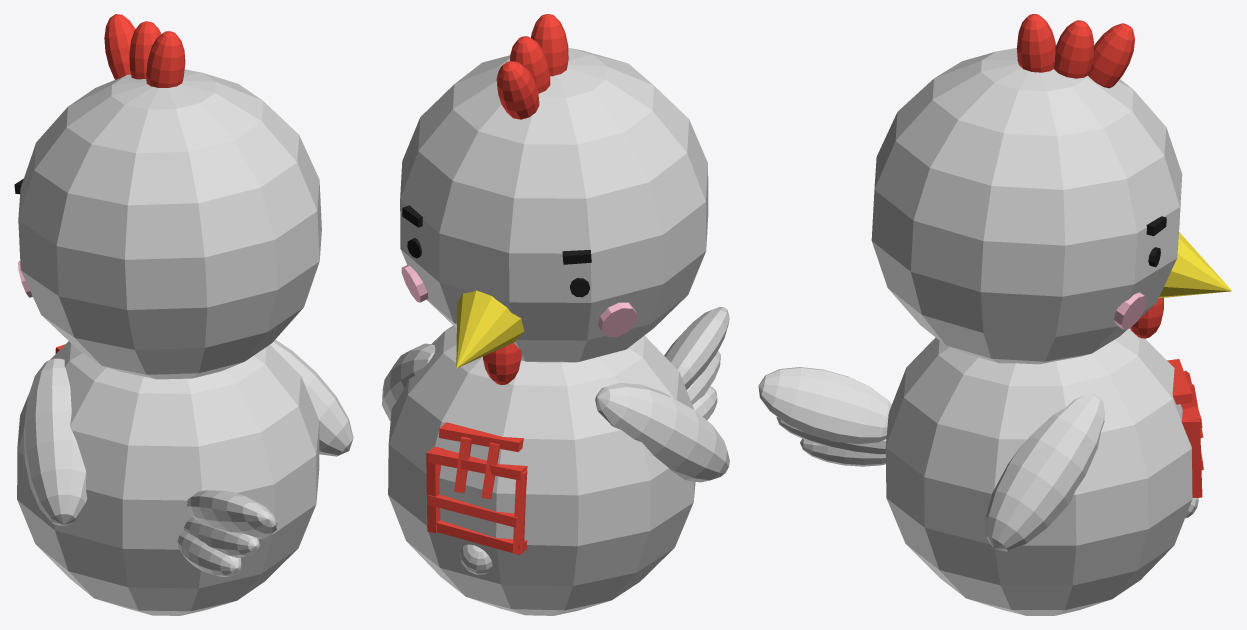
Rendered from chicken.fbx.
3 views of the same model, side by side, from view 1: azimuth 30°, elevation 25°; view 2: azimuth 150°, elevation 25°; view 3: azimuth 270°, elevation 25° (orthographic). The views are drawn at different scales.
Visible parts, largest first — view 1: mesh_2011721713, mesh_636205499, mesh_687468873, mesh_1213640361, mesh_681080062, mesh_2015816963, mesh_658709603, mesh_785766291, mesh_866905359, mesh_2118825051; view 2: mesh_2011721713, mesh_636205499, mesh_687468873, mesh_330036565, mesh_1213640361, mesh_866905359, mesh_681080062, mesh_2015816963, mesh_2118825051, group_427946480, group_847781203, mesh_1086870798 (+11 smaller); view 3: mesh_2011721713, mesh_636205499, mesh_681080062, mesh_1213640361, mesh_330036565, mesh_866905359, mesh_2015816963, mesh_2118825051, mesh_658709603, mesh_785766291, group_1947679134, group_1803137361 (+2 smaller).
Boxes of the visible parts, x1=… form: mesh_2011721713: x1=18, y1=69, x2=321, y2=379; mesh_636205499: x1=17, y1=341, x2=319, y2=615; mesh_687468873: x1=23, y1=358, x2=87, y2=525; mesh_1213640361: x1=187, y1=490, x2=277, y2=538; mesh_681080062: x1=270, y1=339, x2=353, y2=456; mesh_2015816963: x1=146, y1=31, x2=185, y2=87; mesh_658709603: x1=177, y1=531, x2=241, y2=576; mesh_785766291: x1=184, y1=517, x2=259, y2=557; mesh_866905359: x1=104, y1=14, x2=135, y2=79; mesh_2118825051: x1=129, y1=21, x2=160, y2=79; mesh_2011721713: x1=400, y1=48, x2=708, y2=362; mesh_636205499: x1=388, y1=325, x2=695, y2=615; mesh_687468873: x1=595, y1=383, x2=729, y2=482; mesh_330036565: x1=456, y1=290, x2=524, y2=368; mesh_1213640361: x1=664, y1=307, x2=729, y2=389; mesh_866905359: x1=496, y1=61, x2=539, y2=119; mesh_681080062: x1=382, y1=343, x2=435, y2=421; mesh_2015816963: x1=531, y1=14, x2=568, y2=76; mesh_2118825051: x1=510, y1=36, x2=550, y2=93; group_427946480: x1=428, y1=448, x2=527, y2=480; group_847781203: x1=439, y1=422, x2=523, y2=451; mesh_1086870798: x1=483, y1=343, x2=521, y2=384; mesh_2011721713: x1=871, y1=48, x2=1182, y2=364; mesh_636205499: x1=885, y1=328, x2=1192, y2=615; mesh_681080062: x1=985, y1=394, x2=1104, y2=551; mesh_1213640361: x1=758, y1=367, x2=891, y2=444; mesh_330036565: x1=1159, y1=232, x2=1231, y2=298; mesh_866905359: x1=1088, y1=23, x2=1134, y2=88; mesh_2015816963: x1=1016, y1=14, x2=1055, y2=72; mesh_2118825051: x1=1054, y1=20, x2=1093, y2=78; mesh_658709603: x1=800, y1=438, x2=885, y2=466; mesh_785766291: x1=776, y1=417, x2=886, y2=454; group_1947679134: x1=1181, y1=417, x2=1202, y2=497; group_1803137361: x1=1113, y1=292, x2=1147, y2=329.
Size of the model in its own units: 18.71 by 32.16 by 23.56.
